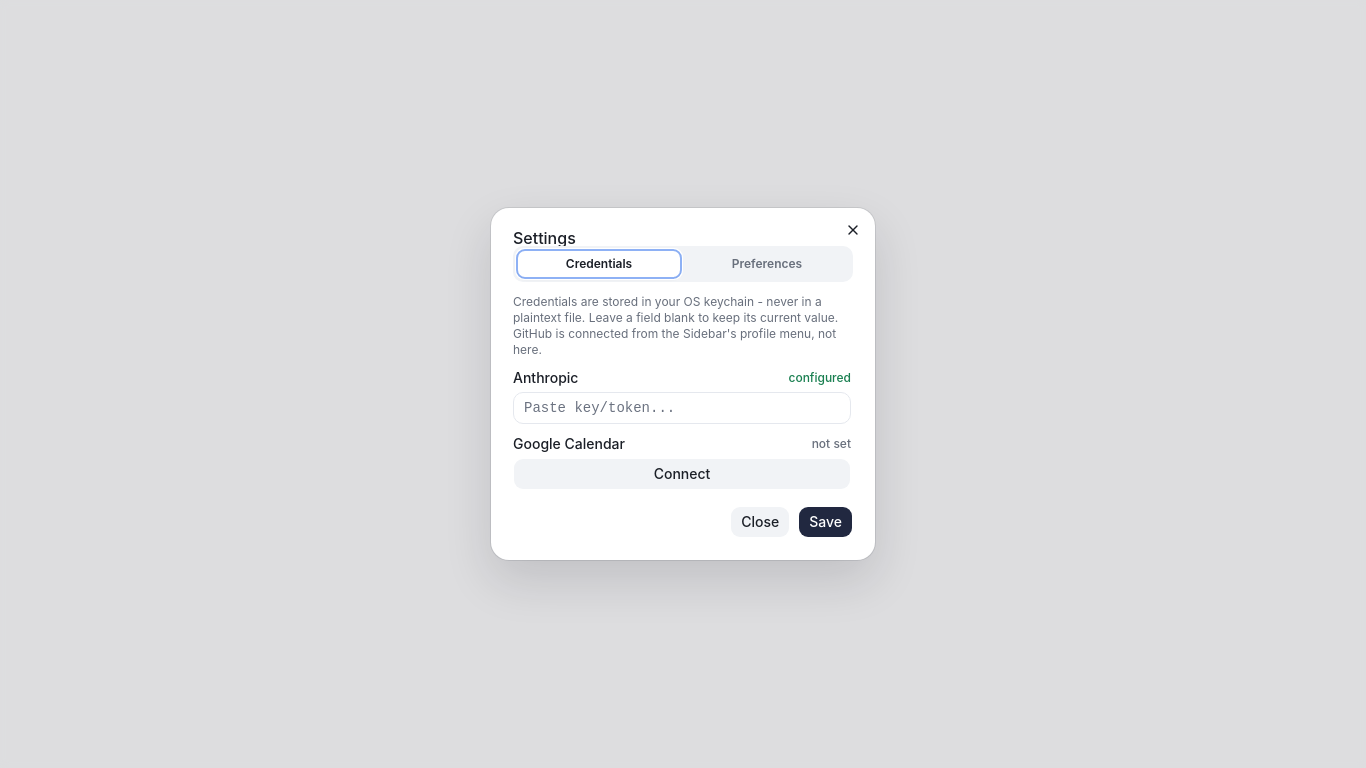
Test: SettingsDialog - preferences › loads and shows the current preferences when the Preferences tab is opened
This screenshot has width=1366, height=768.
What coordinates should you click on to do the following:
click the button "preferences"
I would click on:
 (767, 264)
Its box is [685,250,849,278].
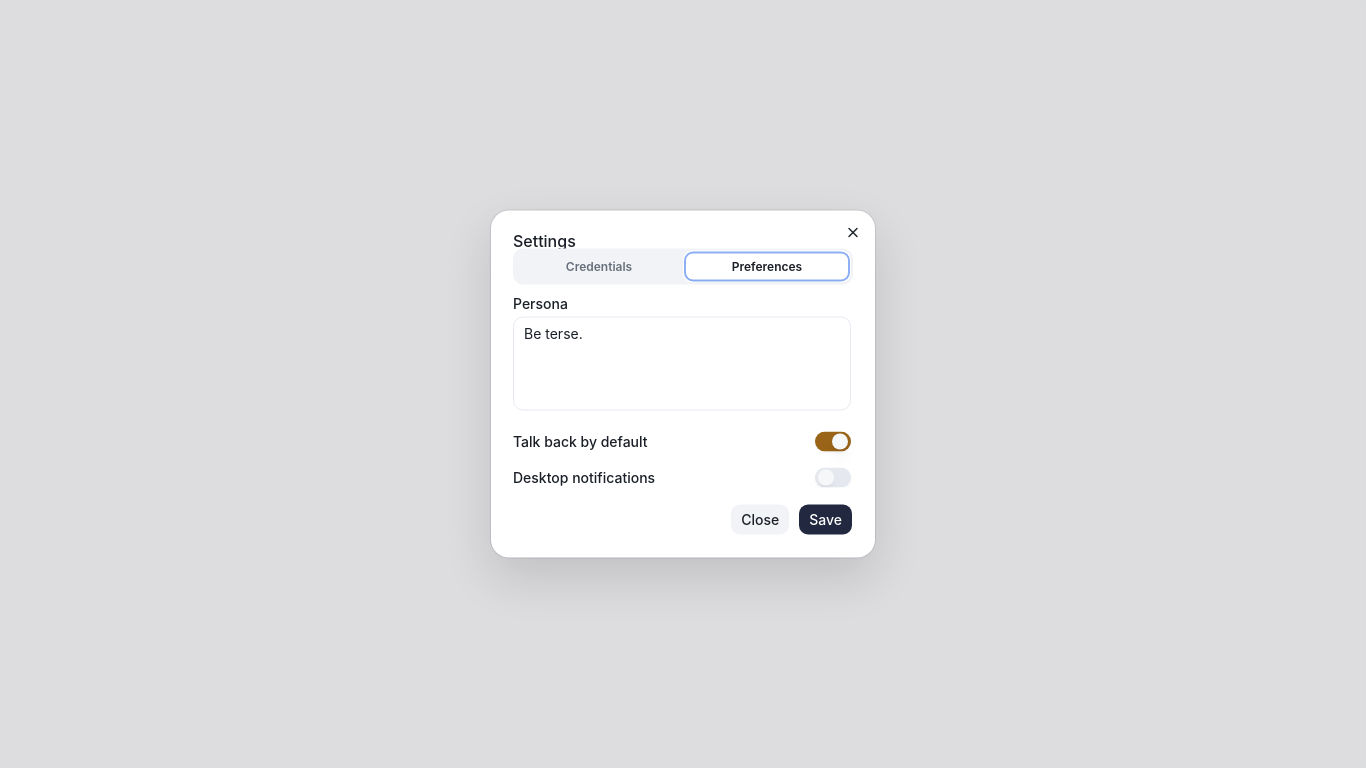
Expected: the switch named "Desktop notifications" next to "Desktop notifications" is not checked, [815,468,851,488]
Now the text box labelled "Persona" holds "Be terse.", box [513,316,851,410]
Now the switch named "Talk back by default" in the row of "Talk back by default" is checked, box [815,432,851,452]
